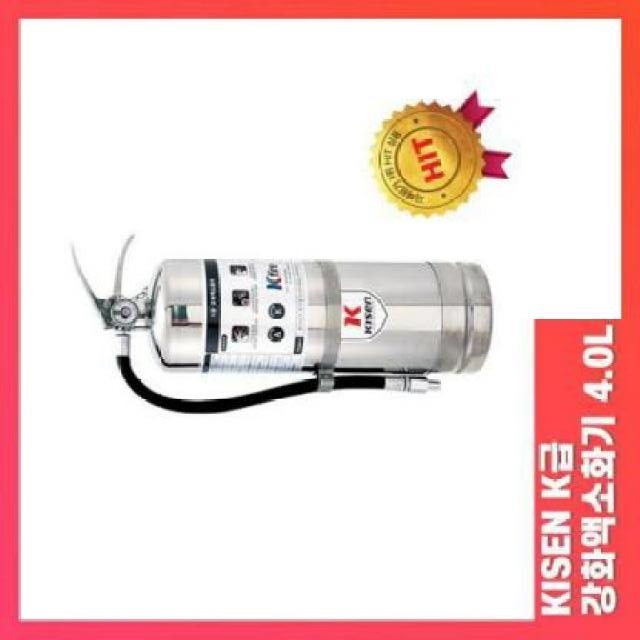fire extinguisher: (71, 234, 494, 414)
